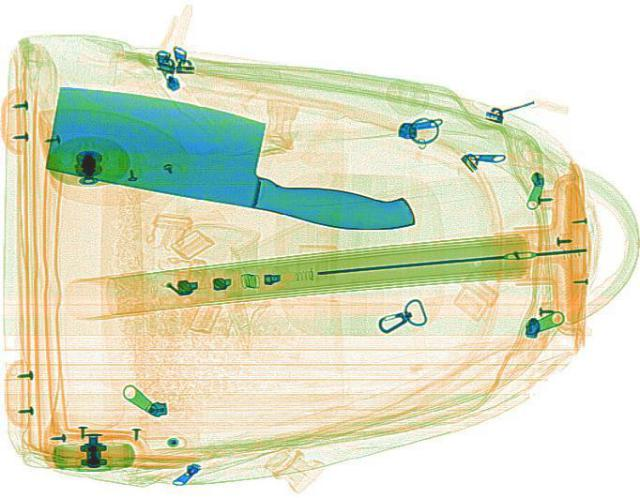Knife: (16, 66, 444, 262)
